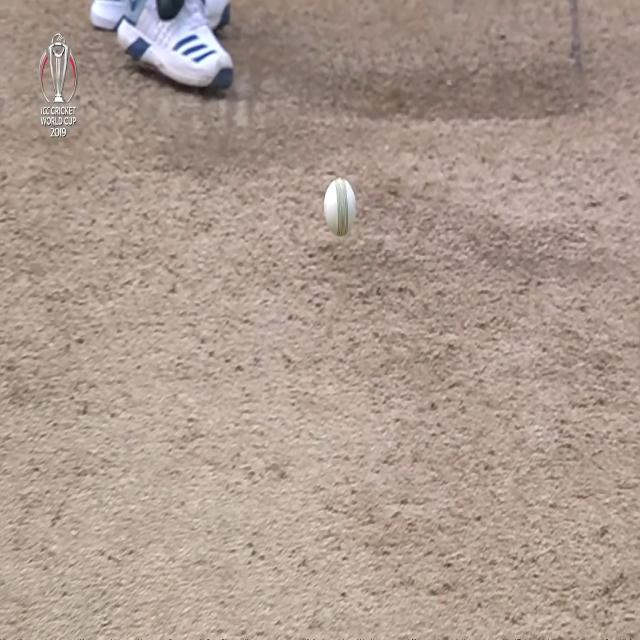Cricket ball: (323, 172, 359, 240)
